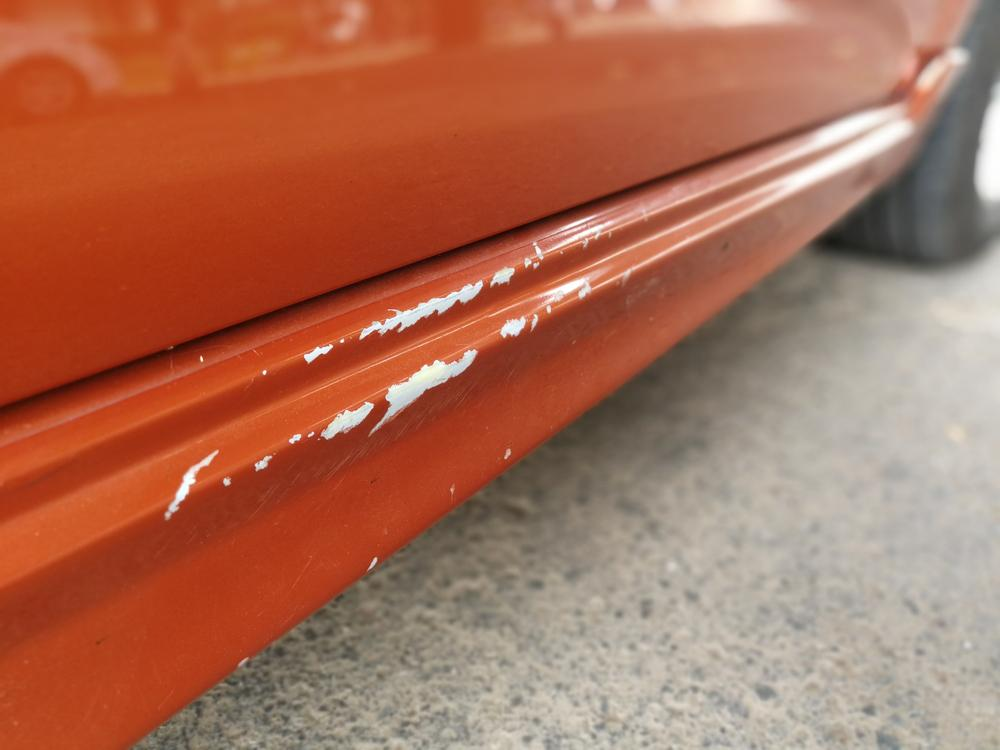scratch: (154, 216, 637, 542)
